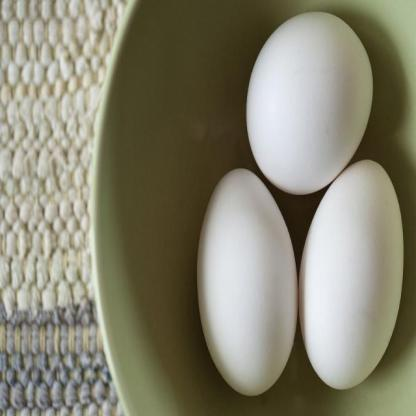egg: (190, 139, 306, 406), (231, 3, 387, 200), (294, 144, 409, 391)
